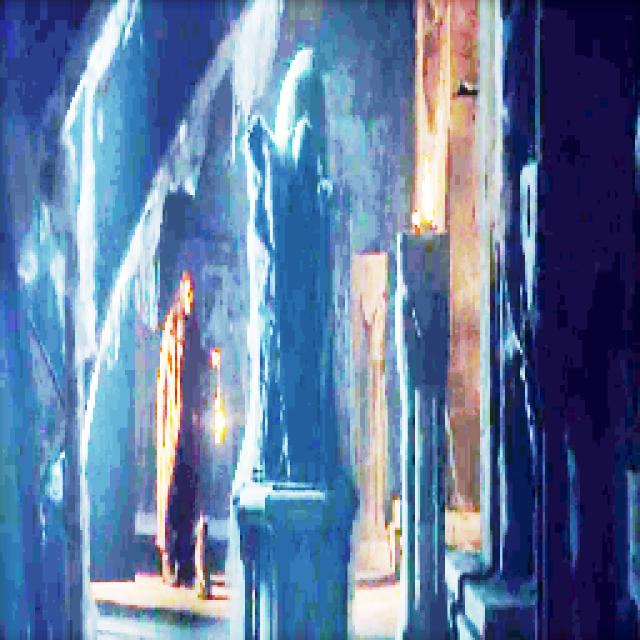cat: (167, 513, 232, 605)
